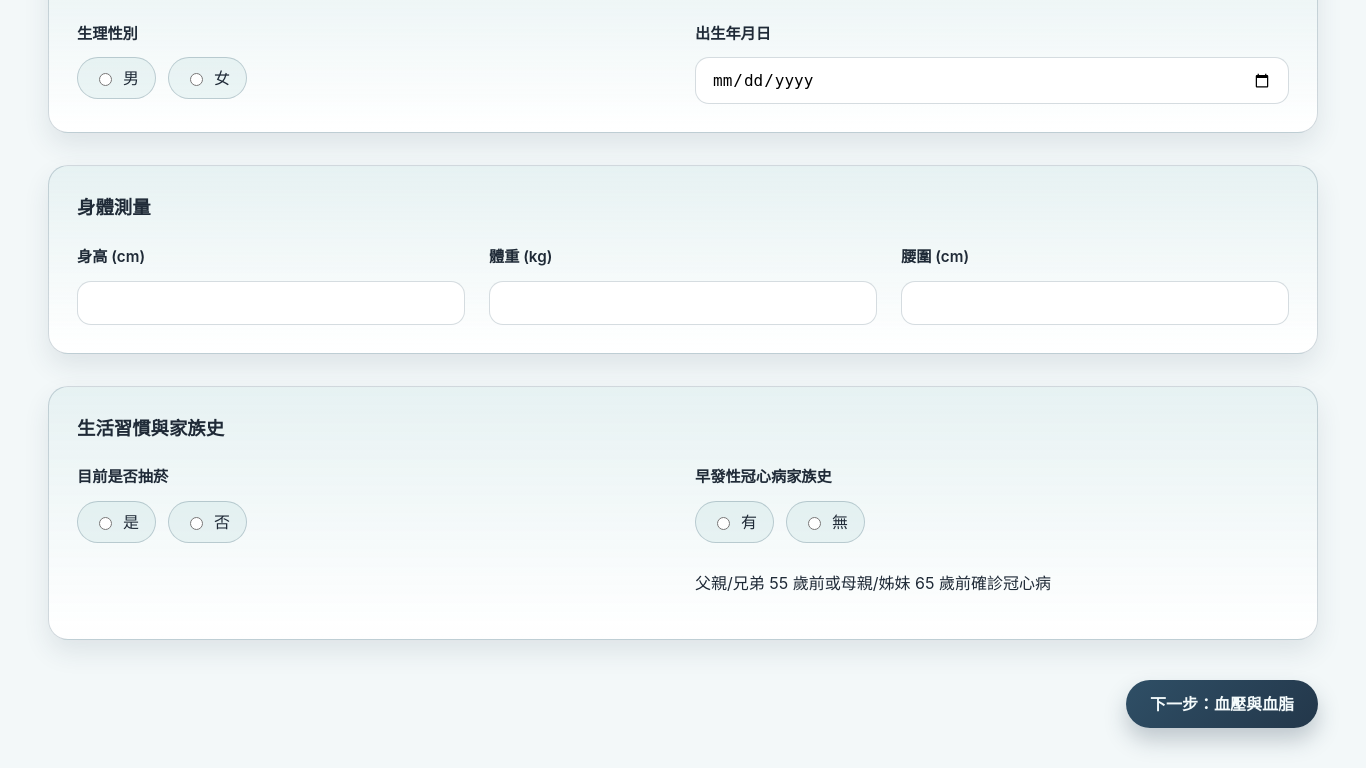
Step1_BasicInfo › 表單驗證失敗時顯示錯誤訊息
(page scrolled)
Click the button "下一步：血壓與血脂".
click(1222, 704)  # box [1126, 680, 1318, 728]
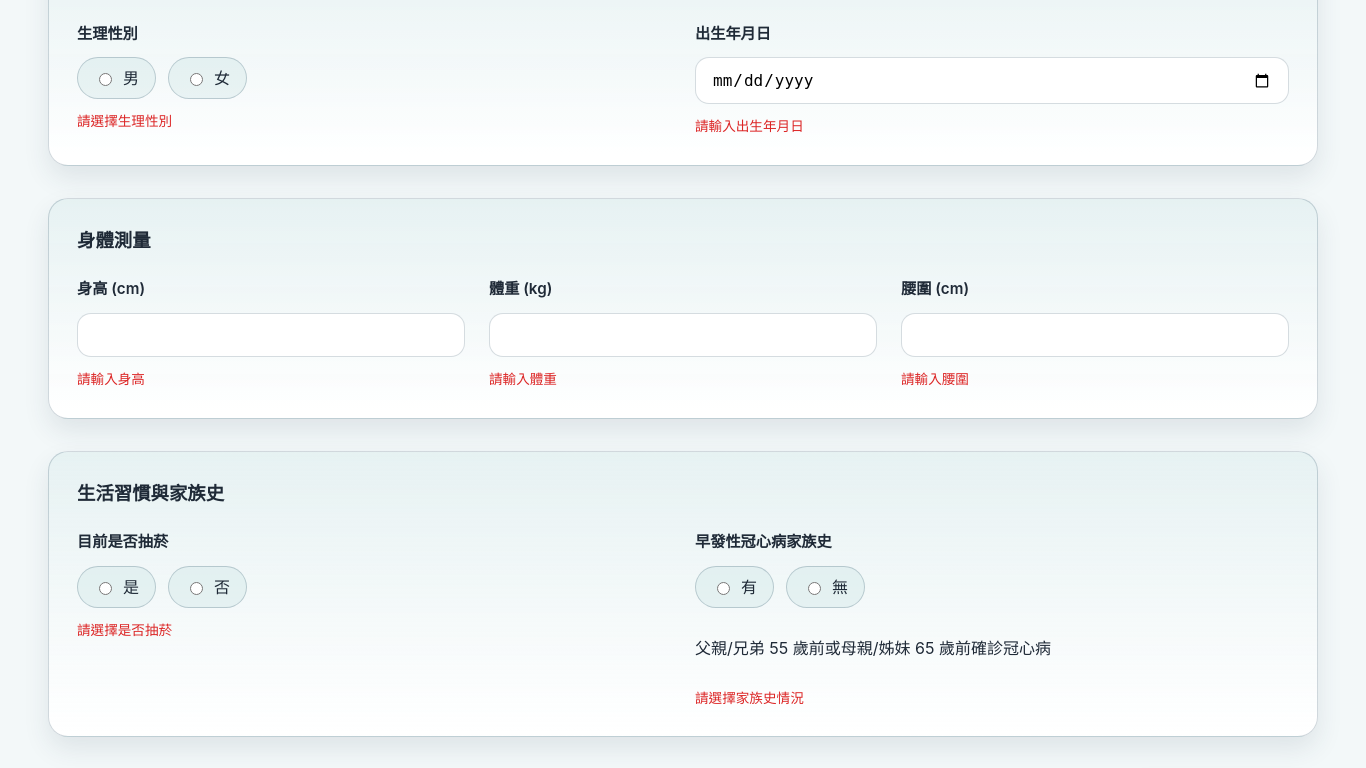
Expected: the text "請選擇生理性別" is shown, [77, 113, 172, 129]
Expected: the text "請輸入出生年月日" is shown, [695, 118, 804, 134]
Expected: the text "請輸入身高" is shown, [77, 371, 145, 387]
